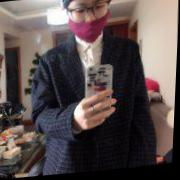WRONG: (66, 1, 111, 45)
